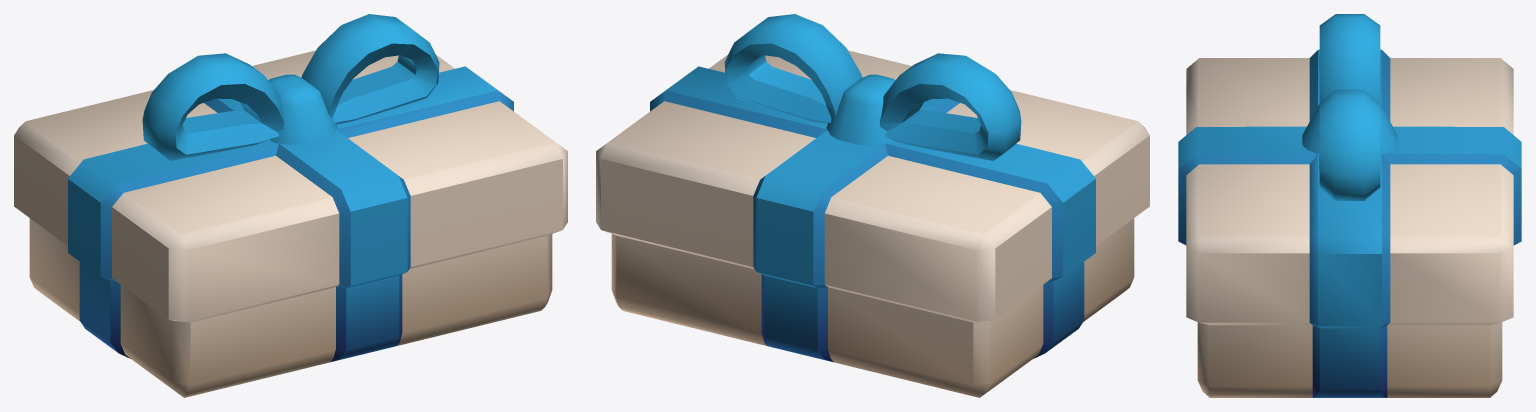
The model's file is present_C_white.glb.
3 views of the same model, side by side, from view 1: azimuth 30°, elevation 25°; view 2: azimuth 150°, elevation 25°; view 3: azimuth 270°, elevation 25° (orthographic). The views are drawn at different scales.
Parts seen in each view (by area): view 1: present_C_white; view 2: present_C_white; view 3: present_C_white.
Boxes of the visible parts, x1,y1,x2,y2 form: present_C_white: (14, 14, 567, 397); present_C_white: (596, 14, 1149, 397); present_C_white: (1178, 14, 1521, 397).
Size of the model in its own units: 0.7638 by 0.4617 by 0.5638.
1 material, 1 textured.
